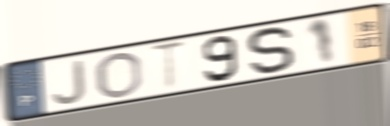1: (305, 15, 339, 68)
9: (201, 34, 240, 84)
J: (50, 57, 89, 106)
O: (94, 50, 145, 100)
S: (244, 24, 298, 78)
T: (147, 39, 189, 93)
